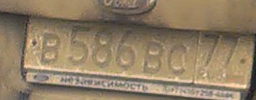character: (67, 24, 91, 68), (114, 28, 138, 71), (91, 26, 114, 69), (198, 32, 221, 72), (166, 40, 190, 77), (39, 29, 62, 65), (144, 38, 164, 77), (222, 32, 239, 71)
